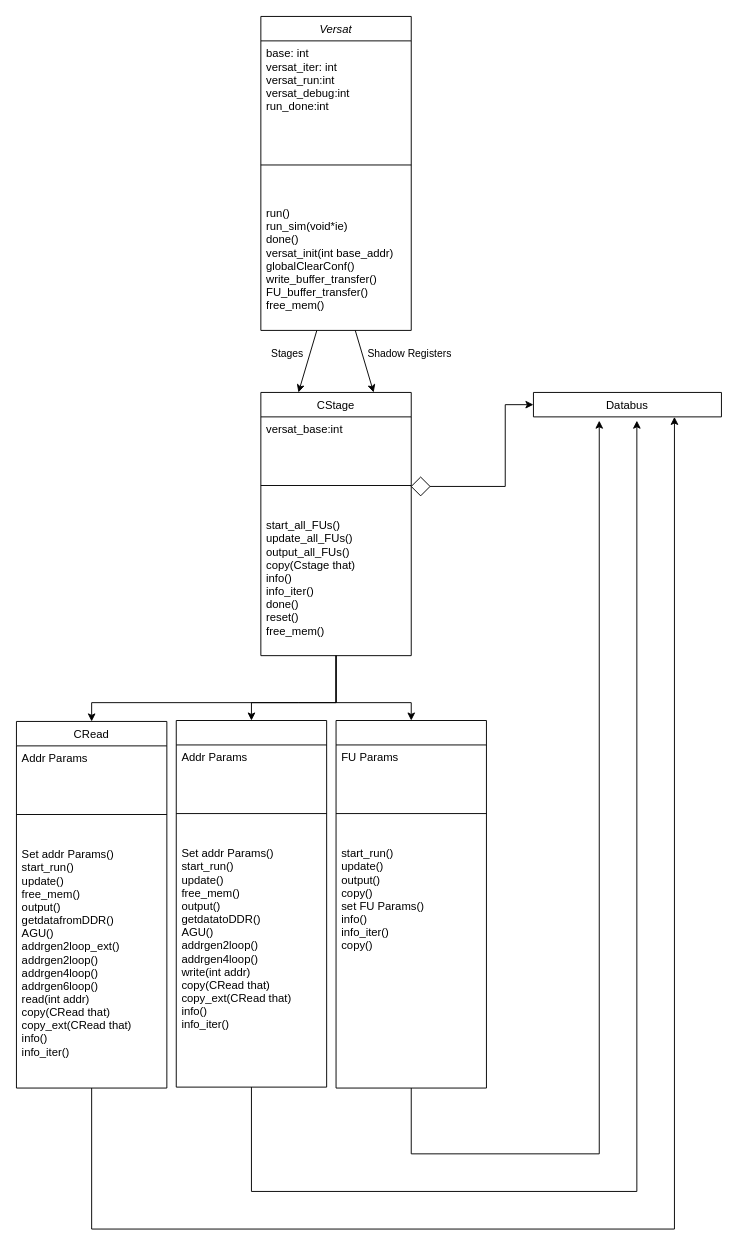
Image size: 738x1253. Some labels were removed from this diagram. The shapes that lost their labels are listed below. From the top down, each one's box as (x1, y1, x2, y2) in pixels, then its label:
(175, 720, 327, 1087): CWrite
(335, 720, 486, 1088): CFU
